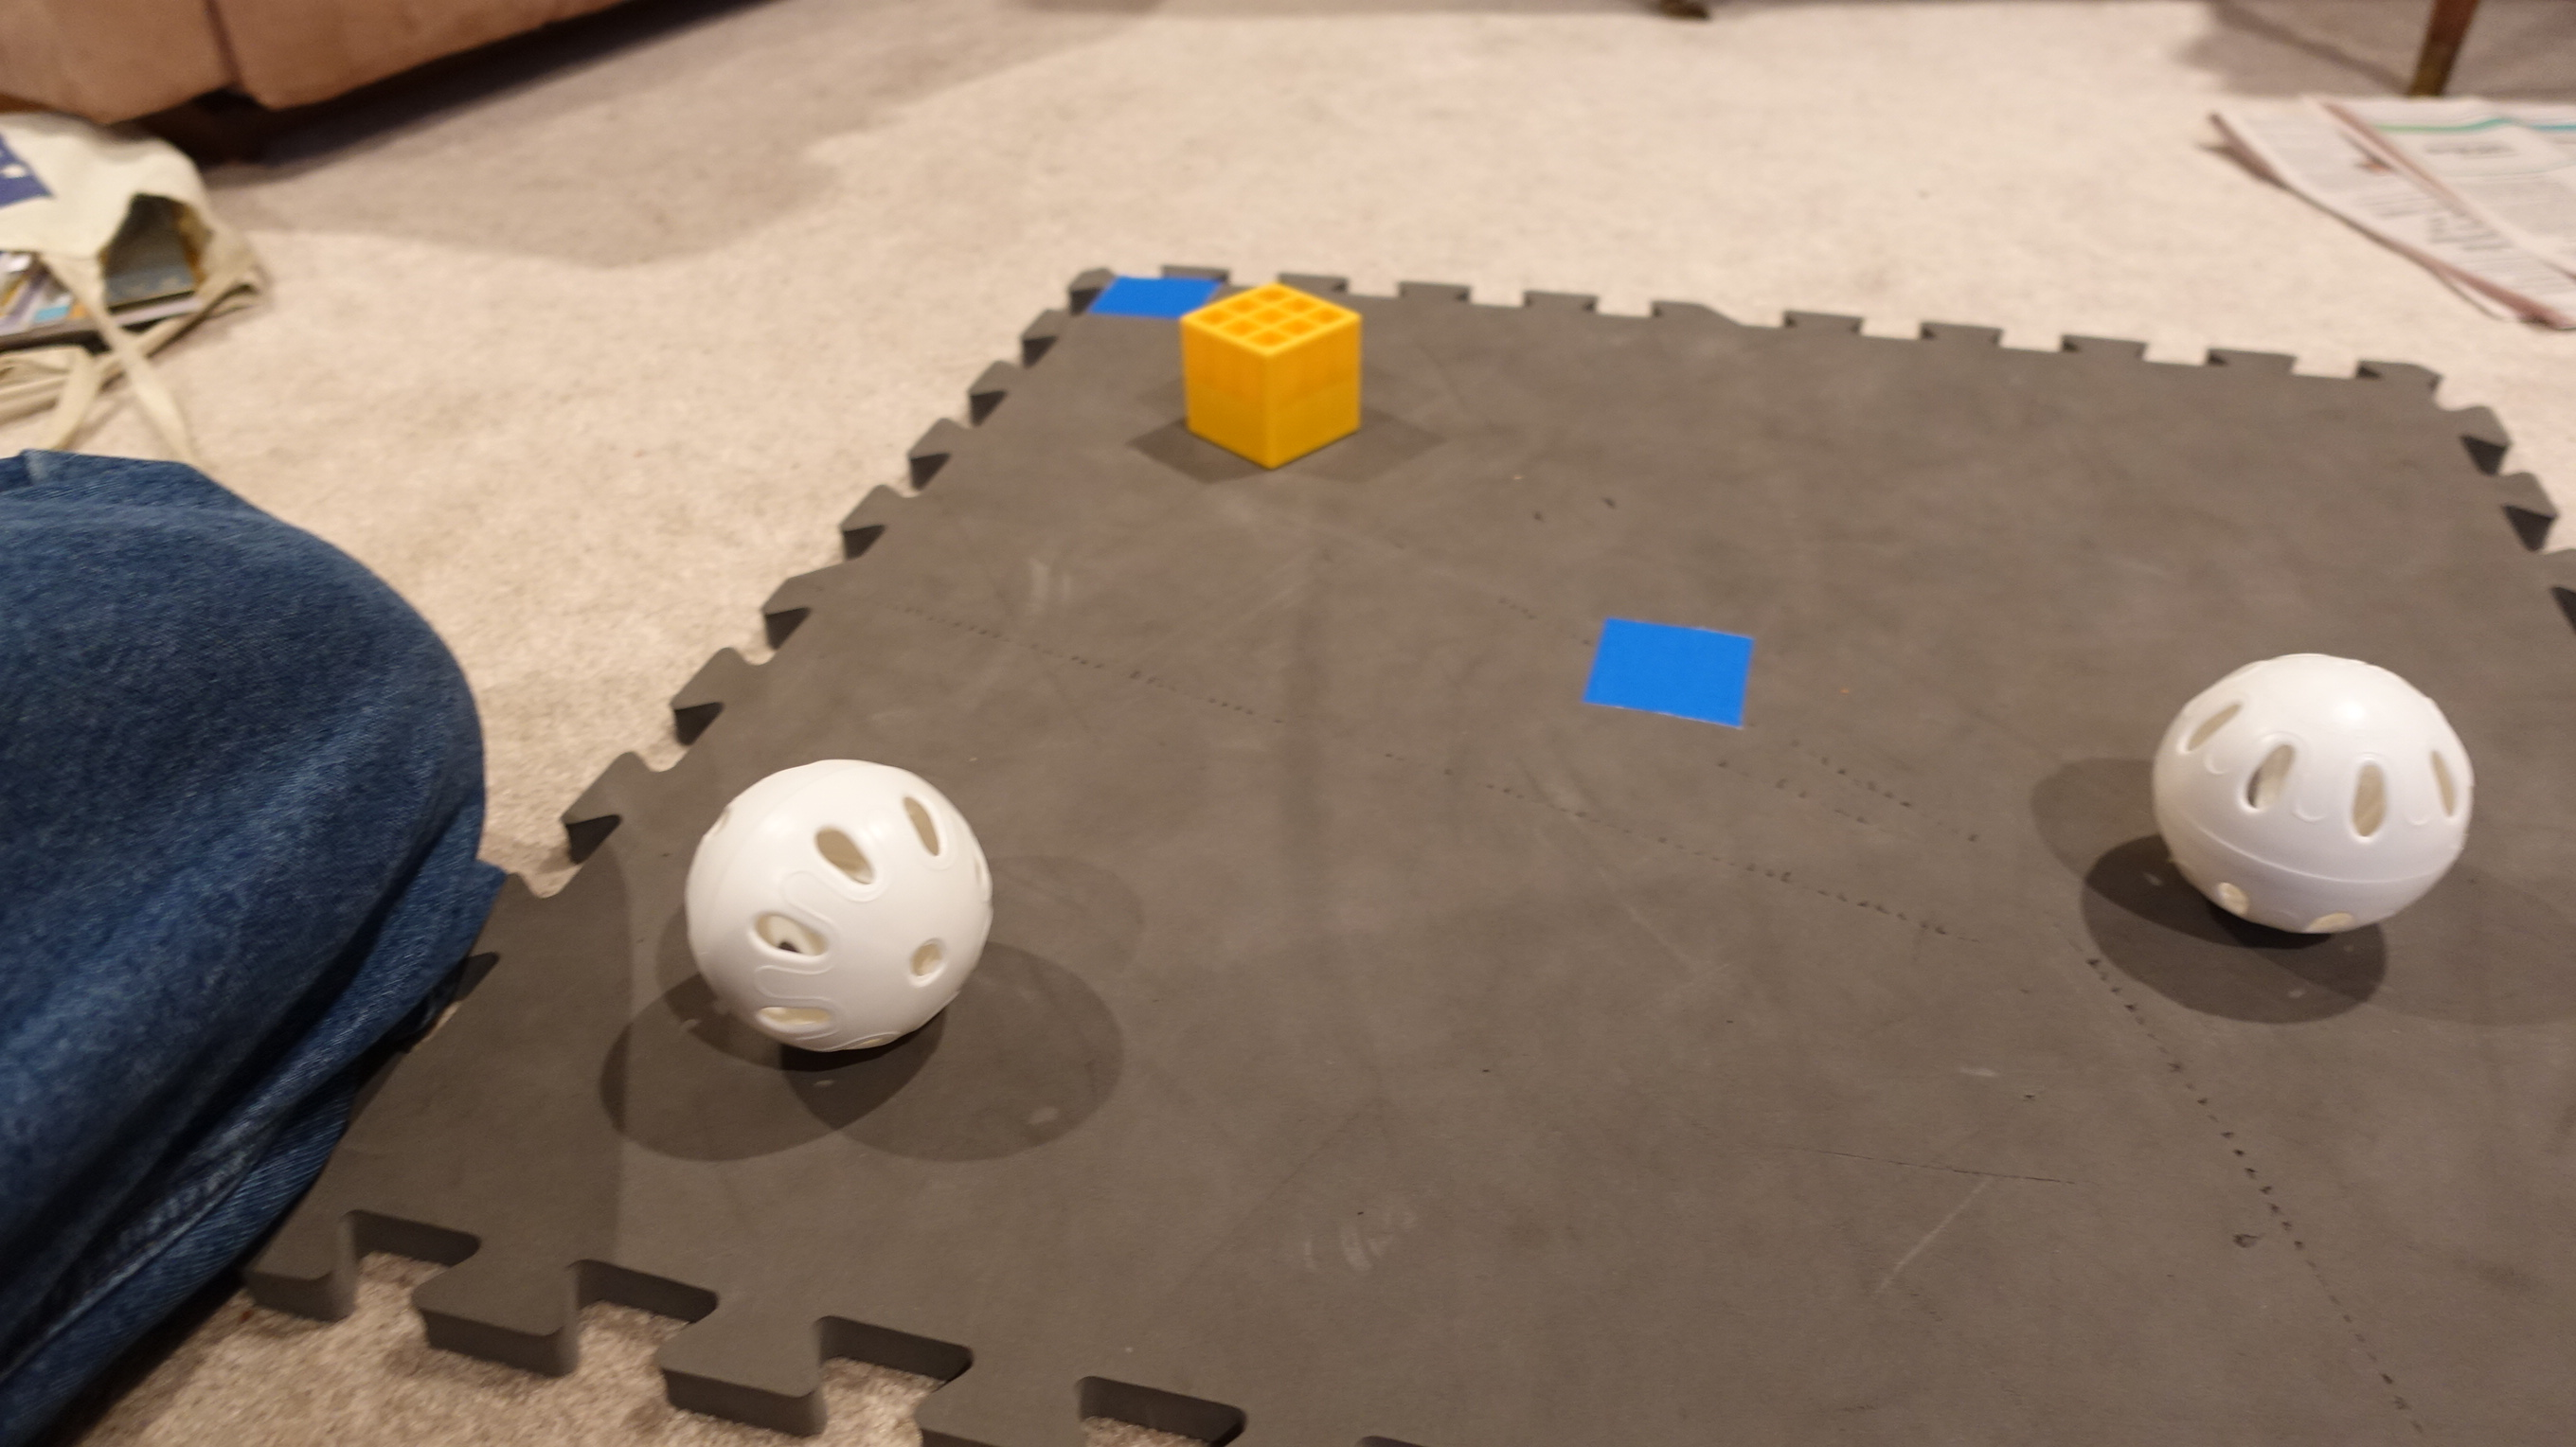gold: (1157, 274, 1384, 481)
silver: (679, 748, 1012, 1070), (2146, 639, 2480, 945)
